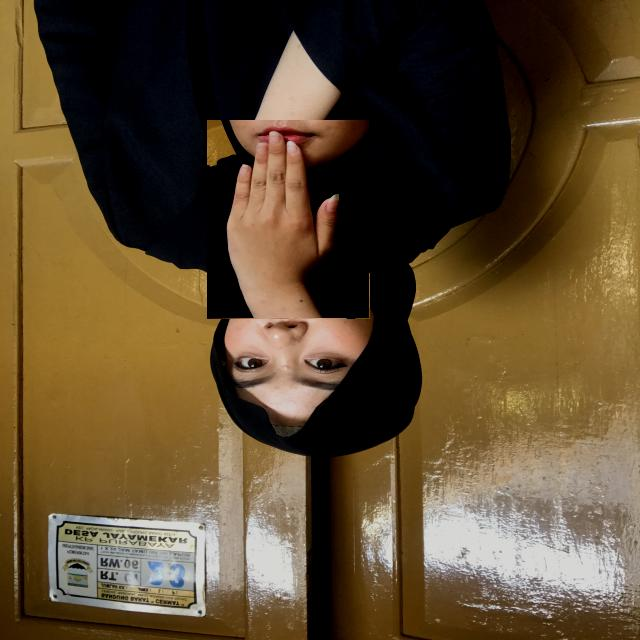ganteng: (207, 120, 370, 319)
